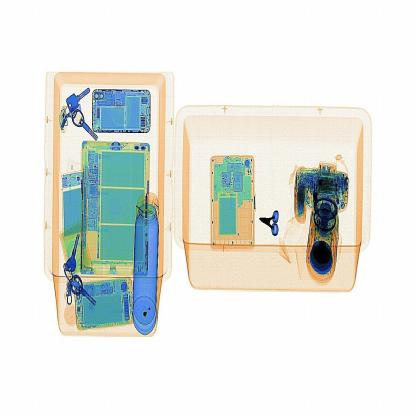gun: (255, 210, 290, 248)
